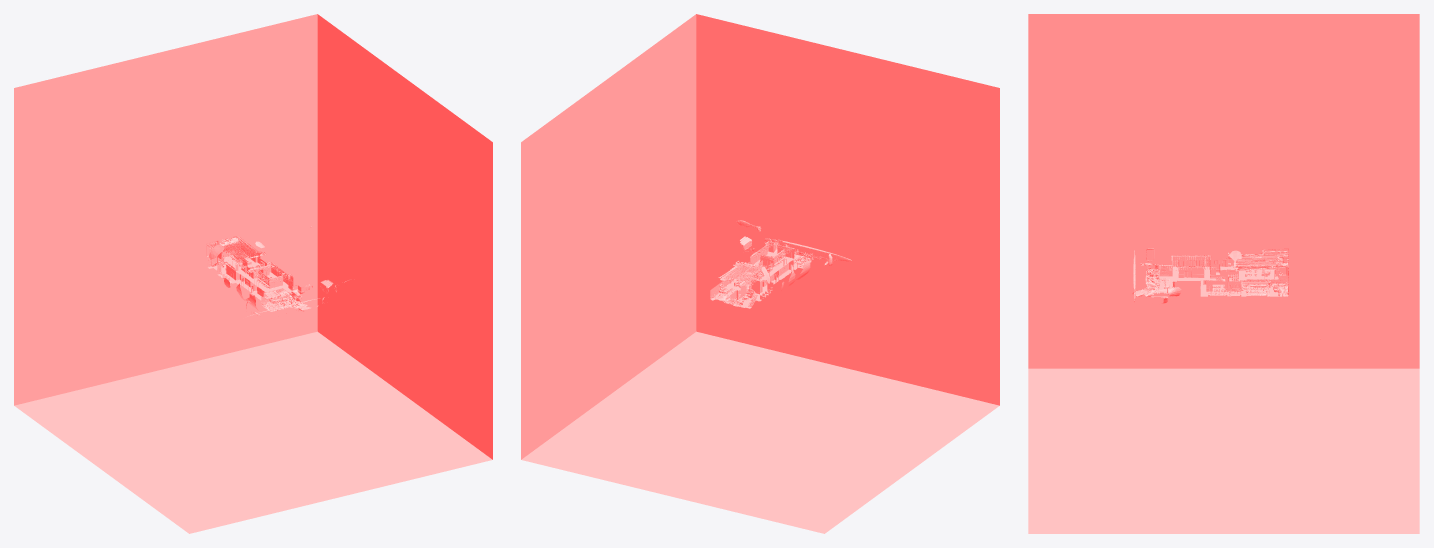
3 views of the same model, side by side, from view 1: azimuth 30°, elevation 25°; view 2: azimuth 150°, elevation 25°; view 3: azimuth 270°, elevation 25° (orthographic). The views are drawn at different scales.
Parts seen in each view (by area): view 1: LayamaNode; view 2: LayamaNode; view 3: LayamaNode.
Boxes of the visible parts, x1,y1,x2,y2 form: LayamaNode: [14, 14, 492, 533]; LayamaNode: [521, 14, 999, 533]; LayamaNode: [1028, 14, 1419, 533].
Bounding box in the file's own units: 11963 × 11963 × 11963.
